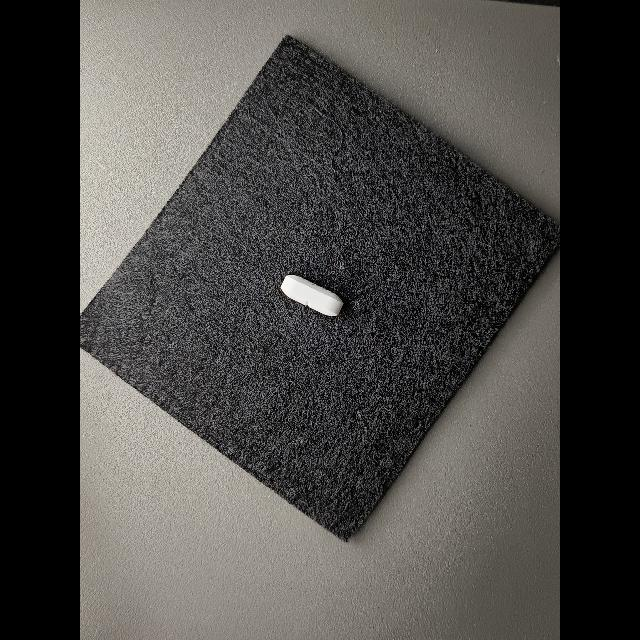Intact Pill: (280, 275, 344, 316)
